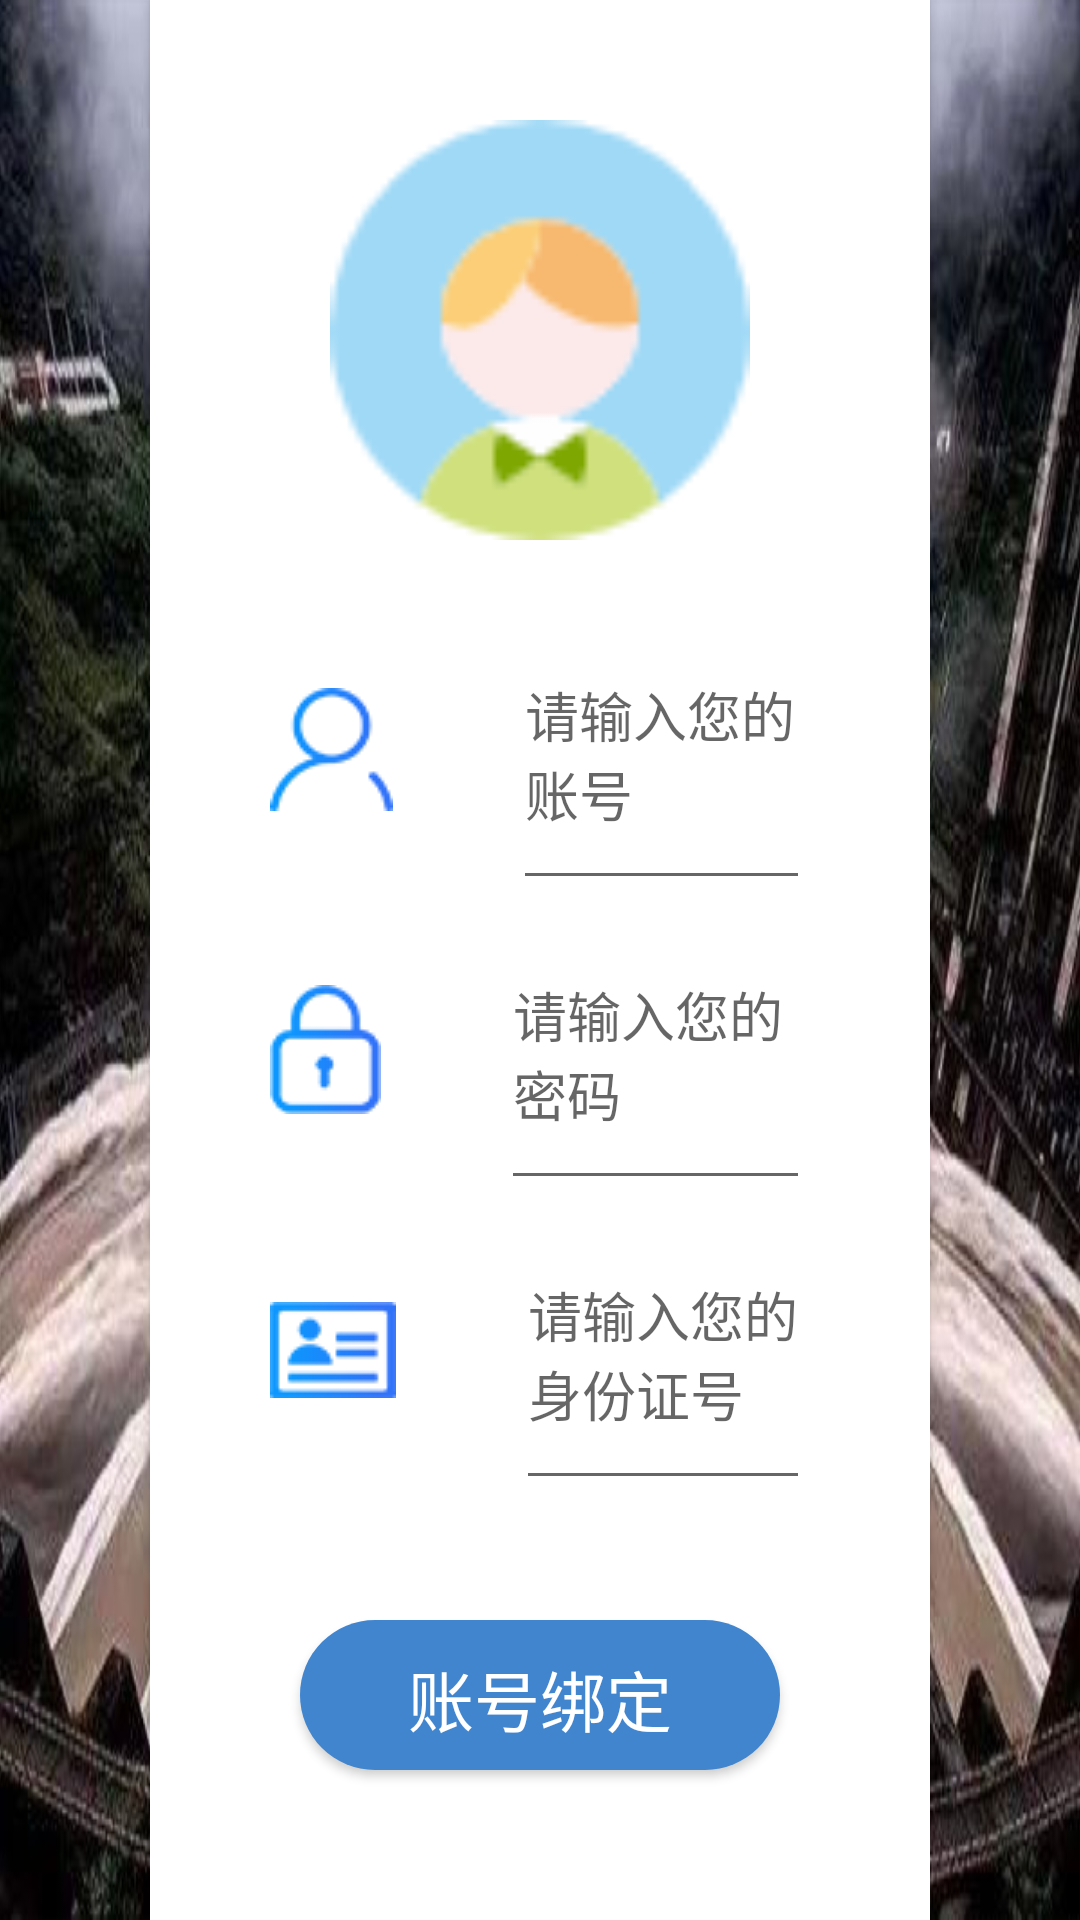

Named icons in this screenshot (1080×1920) and their bounding boxes, (x1, y1, x2, y2):
account: (270, 688, 393, 811)
password: (270, 985, 381, 1114)
shenfengzheng: (270, 1302, 396, 1398)
